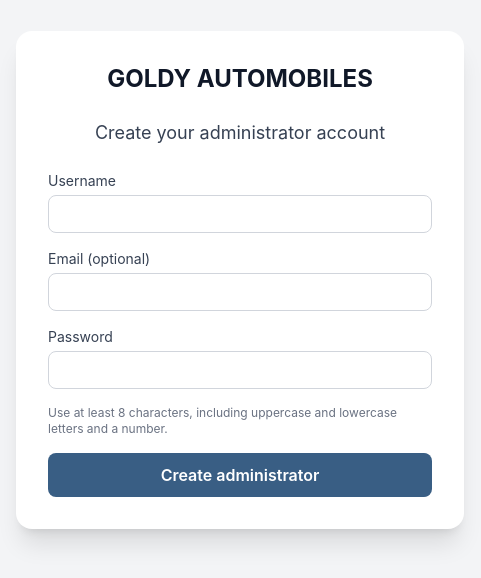
Test: Workshop onboarding › creates the first administrator and shows the recovery code before login
Expected: the heading "Create your administrator account" is shown, [95,122,385,143]
Type "owner" into the field labelled "Username".
click(240, 214); type("owner")  # box [48,195,432,233]
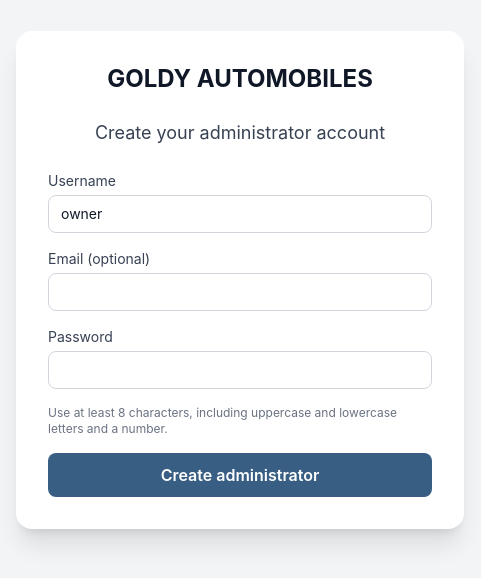
Type "StrongPass1" into the password field labelled "Password".
click(240, 370); type("StrongPass1")  # box [48,351,432,389]
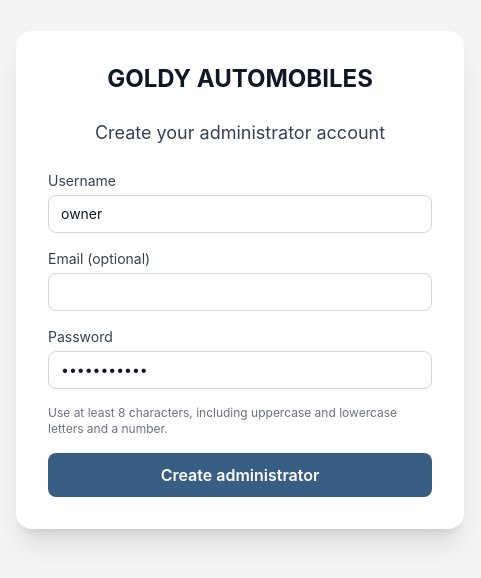
Click the button "Create administrator".
click(240, 475)  # box [48,453,432,497]
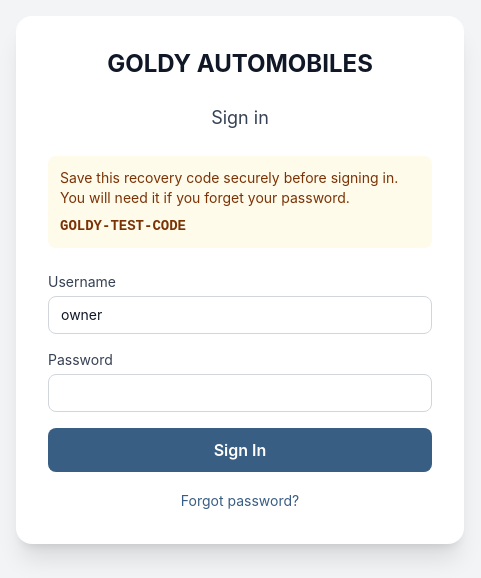
Expected: the text "GOLDY-TEST-CODE" is shown, [60,218,186,234]
Expected: the password field labelled "Password" is empty, [48,374,432,412]
